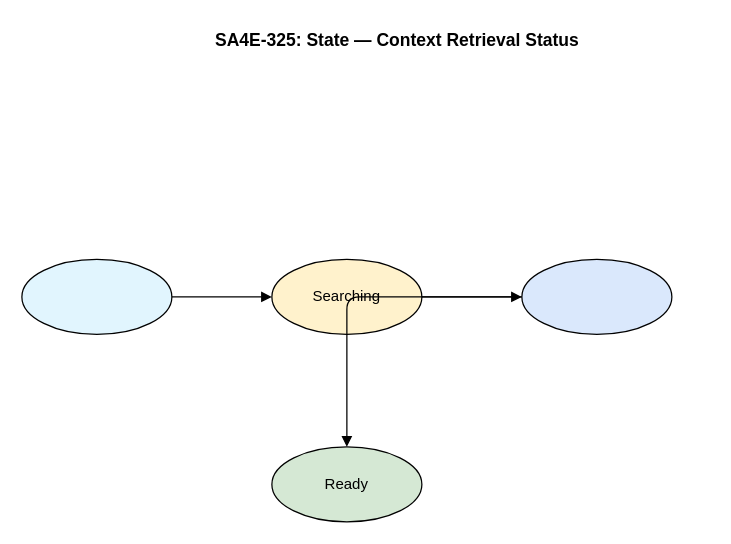
Some shapes in this 731 by 544 pixel diagram are drawn without their labels. Each missing label, with the centre of its shape:
"Idle" goes at point 96,296.
"Ranking" goes at point 596,296.
